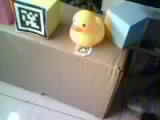duck: (68, 7, 100, 43)
